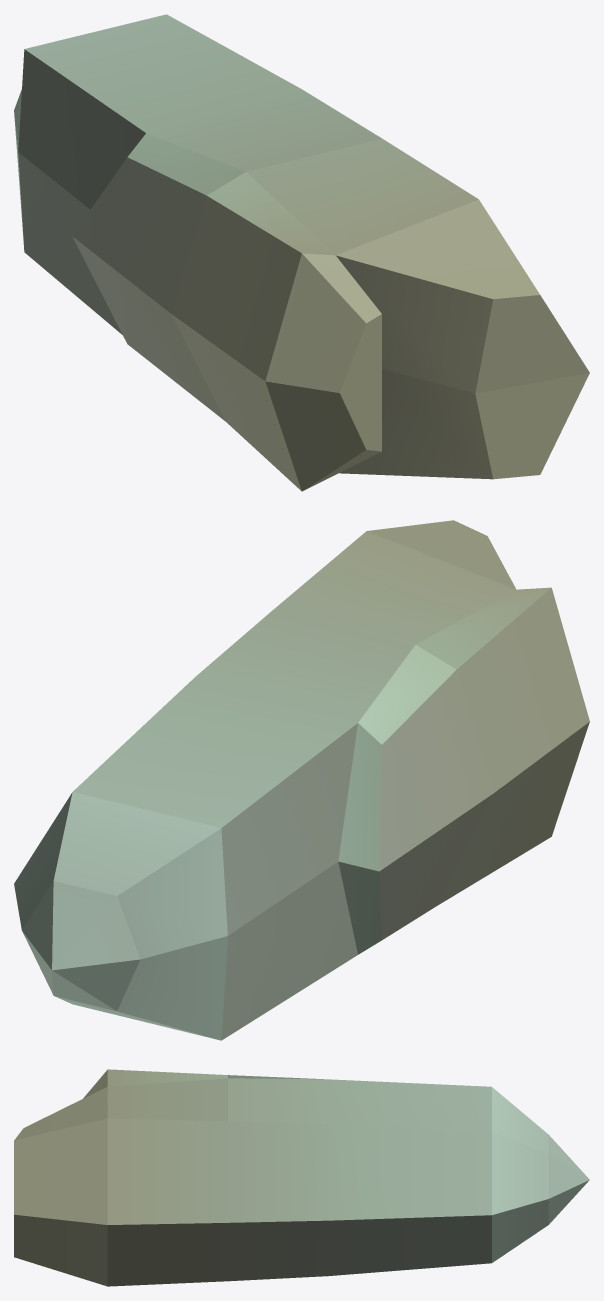
File: ColoredCrystal.009.glb
3 views of the same model, one above another, from view 1: azimuth 30°, elevation 25°; view 2: azimuth 150°, elevation 25°; view 3: azimuth 270°, elevation 25° (orthographic). The views are drawn at different scales.
Parts seen in each view (by area): view 1: ColoredCrystal.009; view 2: ColoredCrystal.009; view 3: ColoredCrystal.009.
Part boxes in pixels (x1=…): ColoredCrystal.009: x1=14, y1=14, x2=589, y2=491; ColoredCrystal.009: x1=14, y1=520, x2=589, y2=1040; ColoredCrystal.009: x1=14, y1=1069, x2=589, y2=1286.
Size of the model in its own units: 221 by 192 by 595.
